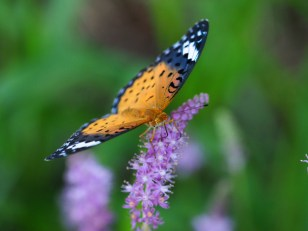Argyreus hyperbius: (39, 14, 213, 165)
butterfly: (41, 16, 215, 167)
